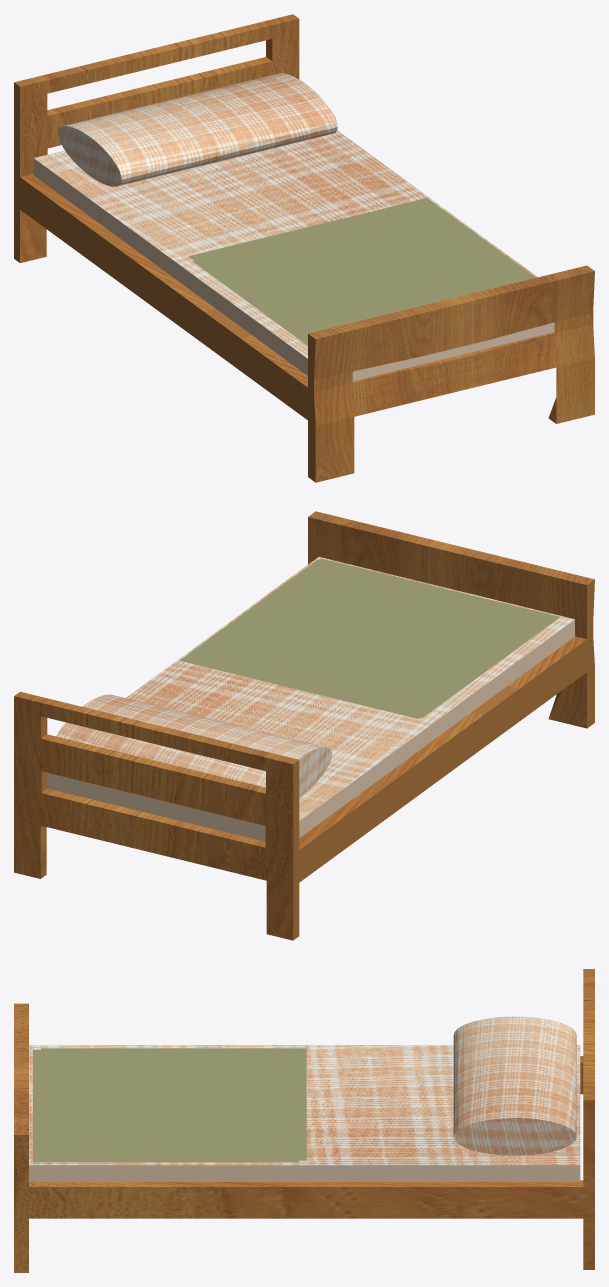
The model's file is Bed2.obj.
The picture shows the model from 3 angles, top to bottom: view 1: azimuth 30°, elevation 25°; view 2: azimuth 150°, elevation 25°; view 3: azimuth 270°, elevation 25°; orthographic projection. The views are drawn at different scales.
Visible parts, largest first — view 1: Cube, Cube.001, Plane.001_Plane, Cylinder; view 2: Cube, Plane.001_Plane, Cube.001, Cylinder, Plane; view 3: Cube.001, Plane.001_Plane, Cube, Cylinder, Plane.
Boxes of the visible parts, box(x1,y1,x2,y2) form: Cube: box(14, 14, 594, 482); Cube.001: box(33, 130, 554, 381); Plane.001_Plane: box(188, 198, 535, 343); Cylinder: box(58, 73, 337, 186); Cube: box(14, 511, 594, 940); Plane.001_Plane: box(179, 559, 555, 718); Cube.001: box(47, 557, 574, 841); Cylinder: box(56, 694, 332, 797); Plane: box(319, 558, 559, 717); Cube.001: box(29, 1045, 580, 1181); Plane.001_Plane: box(41, 1048, 306, 1160); Cube: box(14, 969, 594, 1272); Cylinder: box(453, 1016, 576, 1155); Plane: box(33, 1050, 298, 1162).
Bounding box in the file's own units: 9.79 × 6.02 × 18.33.
Materials: 6 (5 with a texture image).
